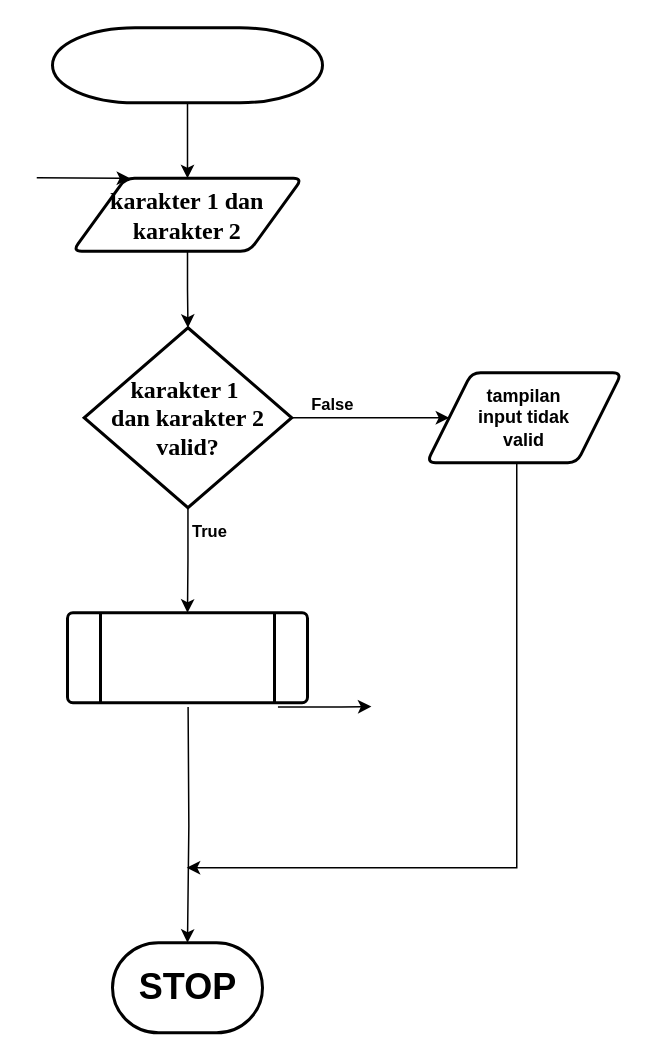
Some shapes in this 650 by 1059 pixel diagram are drawn without their labels. Here are the shapes that lost their labels. From the top down, the box of each, then its label:
(50, 26, 323, 104): battleKarakter
(65, 610, 308, 704): duel
